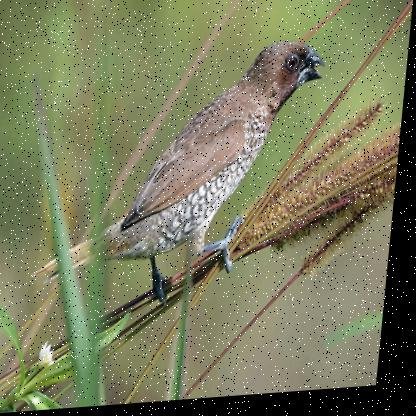Burung: (33, 43, 330, 318)
